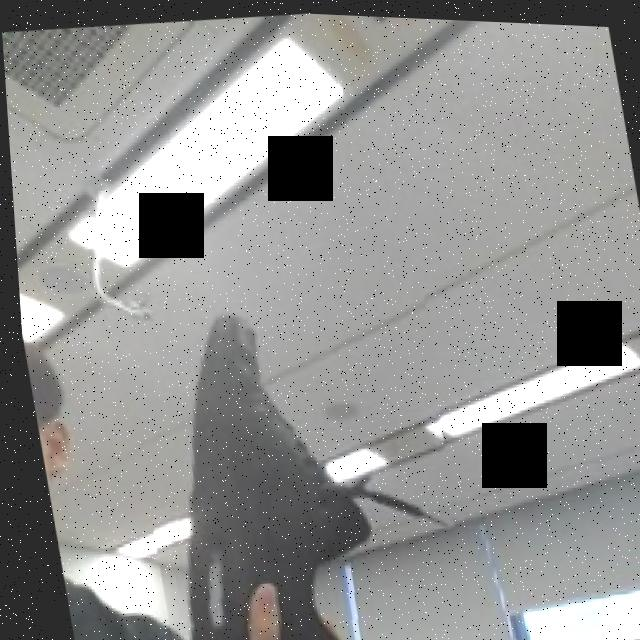shoe: (106, 255, 477, 640)
